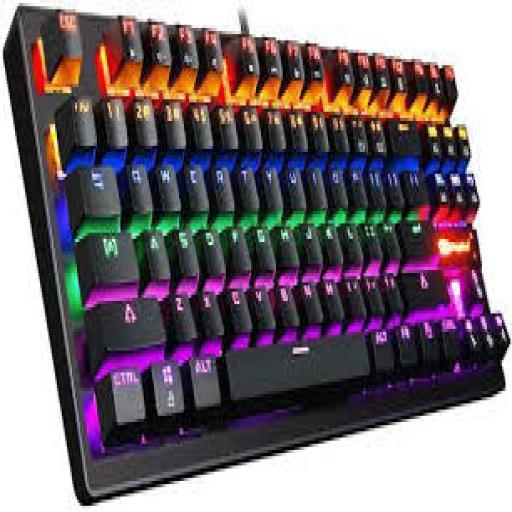keyboard: (3, 6, 510, 500)
